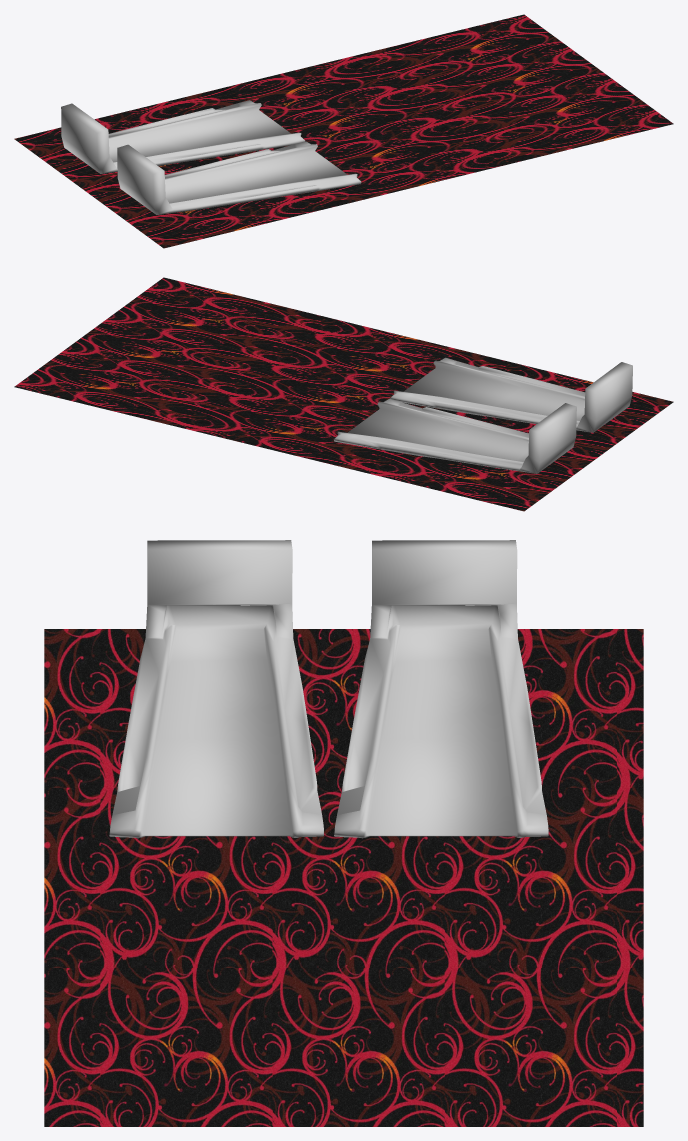
The model's file is Boliche.obj.
3 views of the same model, one above another, from view 1: azimuth 30°, elevation 25°; view 2: azimuth 150°, elevation 25°; view 3: azimuth 270°, elevation 25° (orthographic). The views are drawn at different scales.
Parts seen in each view (by area): view 1: bolaboliche; view 2: bolaboliche; view 3: bolaboliche.
Part boxes in pixels (bbox=[...]): bolaboliche: bbox=[14, 14, 673, 248]; bolaboliche: bbox=[14, 277, 673, 511]; bolaboliche: bbox=[44, 540, 643, 1126].
Size of the model in its own units: 17.7 by 1.76 by 9.
